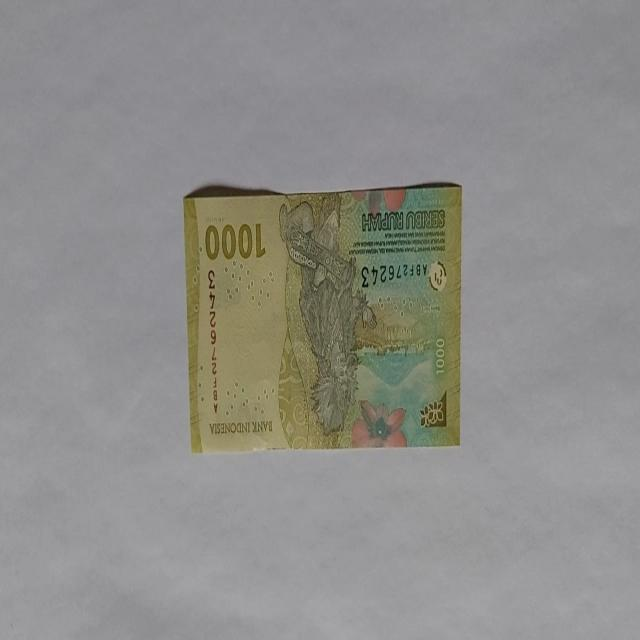seribu rupiah kertas: (182, 182, 462, 454)
